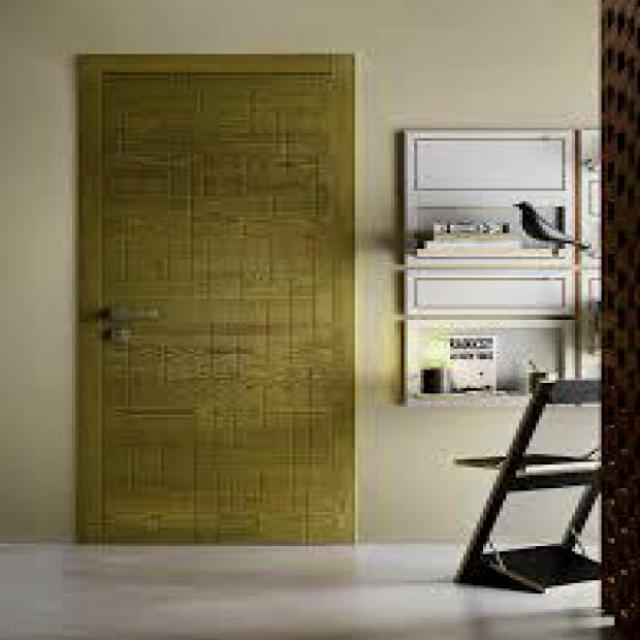door: (74, 52, 357, 546)
